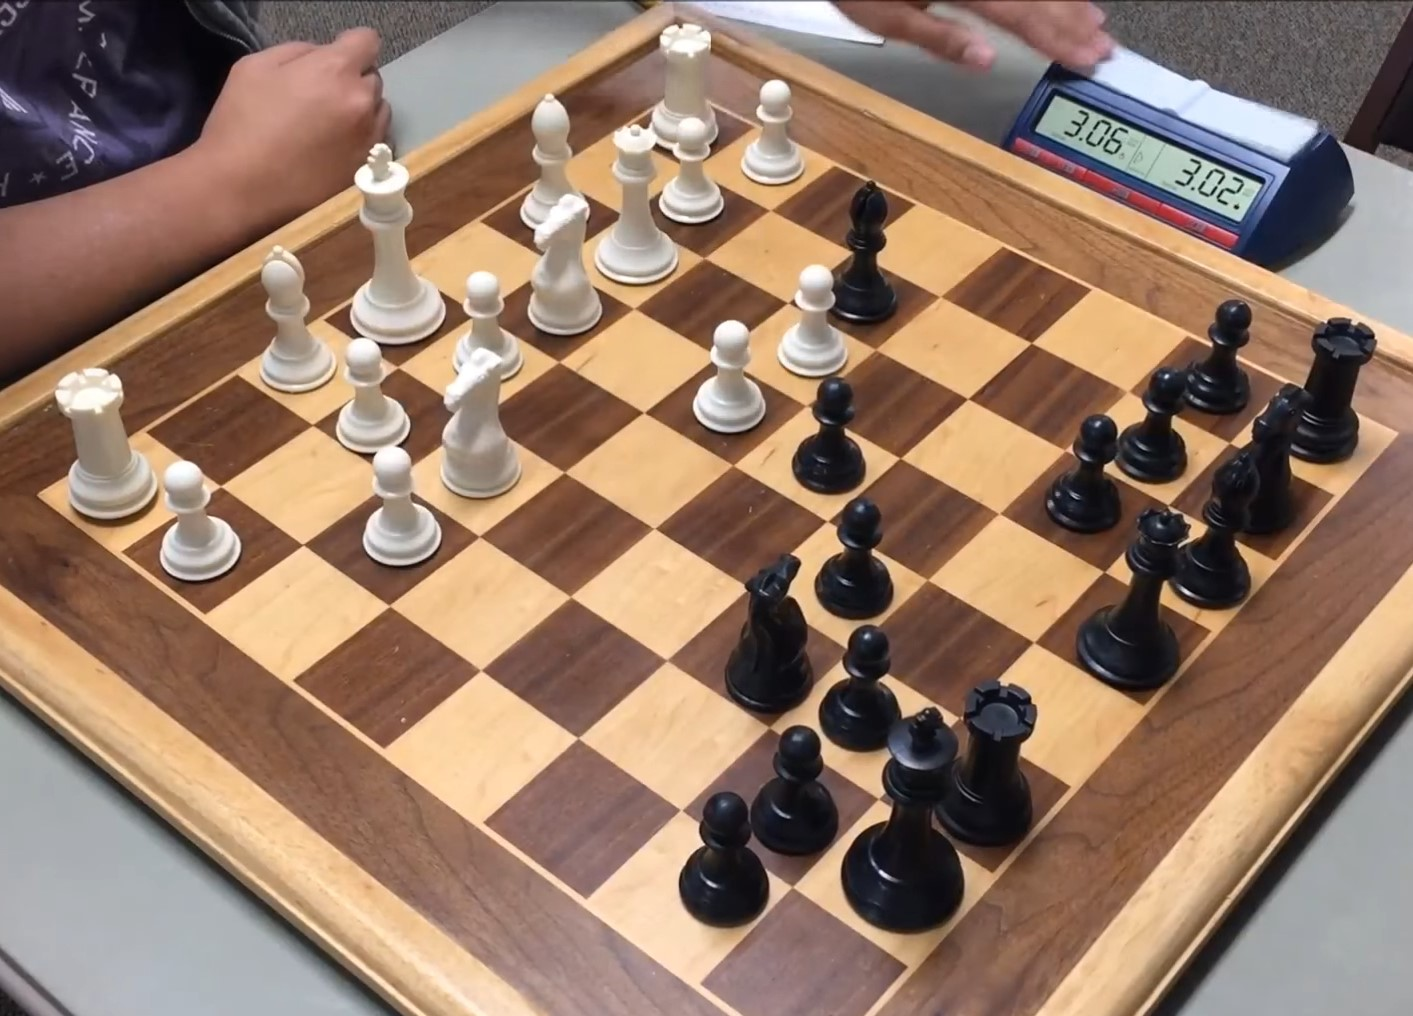BB: (1169, 451, 1262, 612), (829, 176, 897, 325)
BK: (840, 702, 965, 934)
BN: (721, 551, 819, 713), (1236, 382, 1308, 540)
BP: (672, 790, 770, 933), (751, 722, 839, 859), (817, 623, 904, 753), (784, 374, 871, 497), (815, 496, 895, 623), (1042, 413, 1124, 534), (1114, 364, 1191, 489), (1179, 297, 1255, 420)
BQ: (1077, 507, 1188, 689)
BR: (943, 676, 1036, 849), (1296, 308, 1375, 467)
WB: (252, 242, 341, 395), (519, 93, 598, 227)
WK: (344, 138, 446, 346)
WN: (437, 345, 525, 500), (524, 193, 603, 337)
WP: (157, 459, 242, 584), (361, 447, 442, 569), (335, 334, 412, 454), (691, 317, 767, 436), (777, 263, 850, 380), (450, 269, 522, 376), (737, 76, 806, 185), (658, 116, 725, 224)
WQ: (594, 123, 681, 287)
WR: (52, 365, 161, 523), (653, 20, 722, 150)
